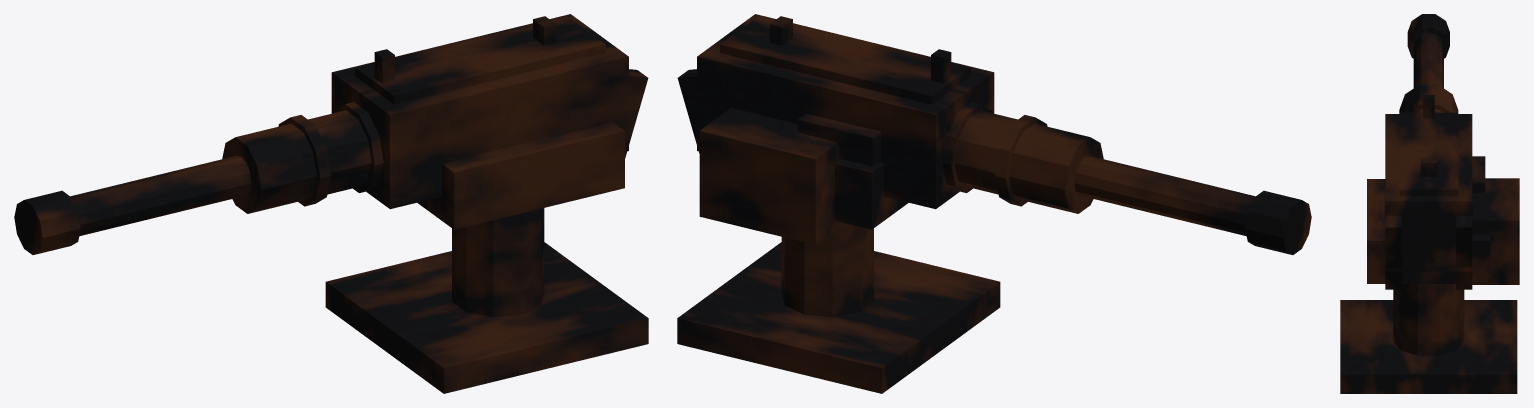
The model's file is MachineGun.fbx.
3 renders of one model, left to right at view 1: azimuth 30°, elevation 25°; view 2: azimuth 150°, elevation 25°; view 3: azimuth 270°, elevation 25°, orthographic. The views are drawn at different scales.
Parts seen in each view (by area): view 1: MachineGun; view 2: MachineGun; view 3: MachineGun.
Boxes of the visible parts, left/top/right/bottom form: MachineGun: left=14, top=14, right=648, bottom=393; MachineGun: left=677, top=14, right=1311, bottom=393; MachineGun: left=1340, top=14, right=1519, bottom=393.
Bounding box in the file's own units: 4.33 × 2.08 × 1.52.
Materials: 1 (1 with a texture image).
